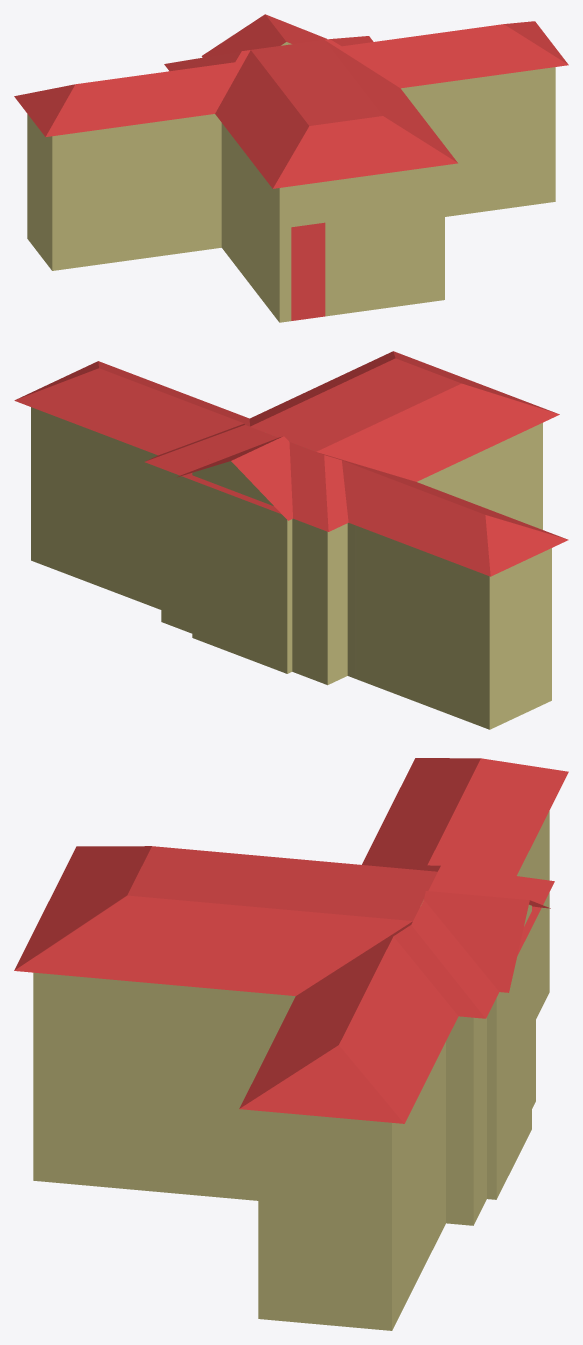
3 renders of one model, top to bottom at view 1: azimuth 30°, elevation 25°; view 2: azimuth 150°, elevation 25°; view 3: azimuth 270°, elevation 25°, orthographic. The views are drawn at different scales.
Size of the model in its own units: 53.44 by 34.25 by 18.14.
